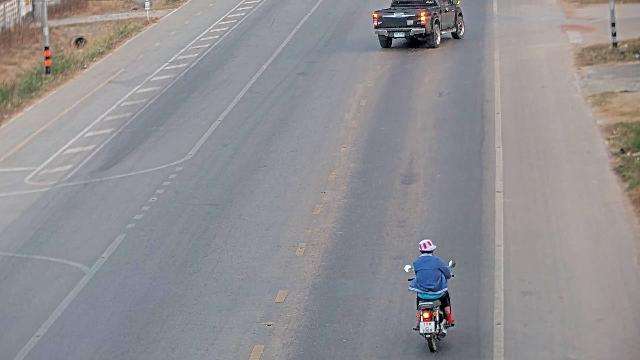pickup-truck: (372, 0, 465, 49)
truck: (408, 259, 453, 355)
